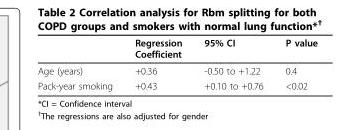table: (36, 36, 316, 91)
table column: (36, 36, 123, 91), (192, 36, 273, 91), (123, 36, 192, 91), (273, 36, 316, 91)
table column header: (36, 36, 316, 62)
table row: (36, 36, 316, 62), (36, 62, 316, 77), (36, 77, 316, 91)
